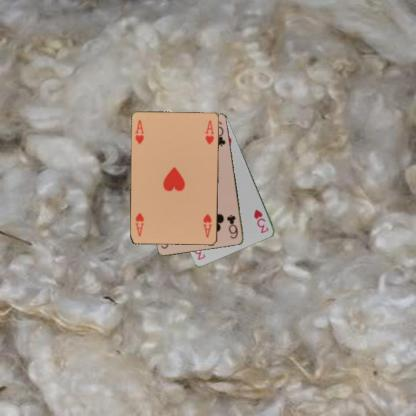3h: (251, 207, 270, 234)
6c: (224, 212, 239, 240)
Ah: (133, 117, 145, 145), (201, 211, 213, 238)
